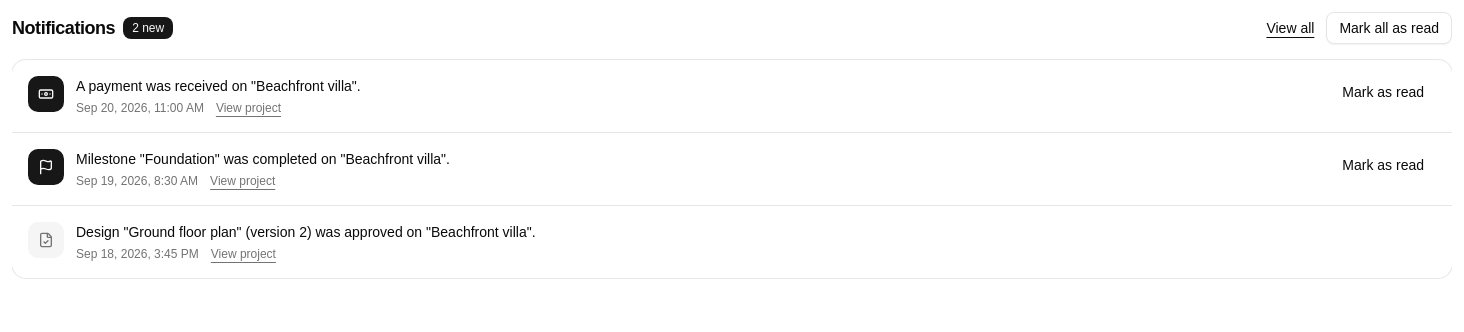
Test: NotificationsPanel › marking read › says so when marking fails with no answer at all
Click the button "Mark all as read" at {"x": 1389, "y": 28}, box [1326,12,1452,44]
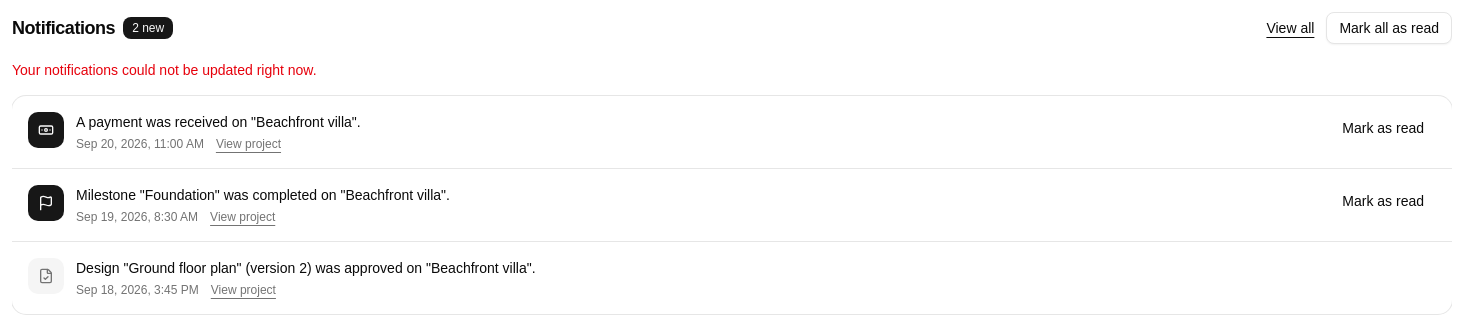
expect the message reads "Your notifications could not be updated right now.": met, box [12,62,317,78]
